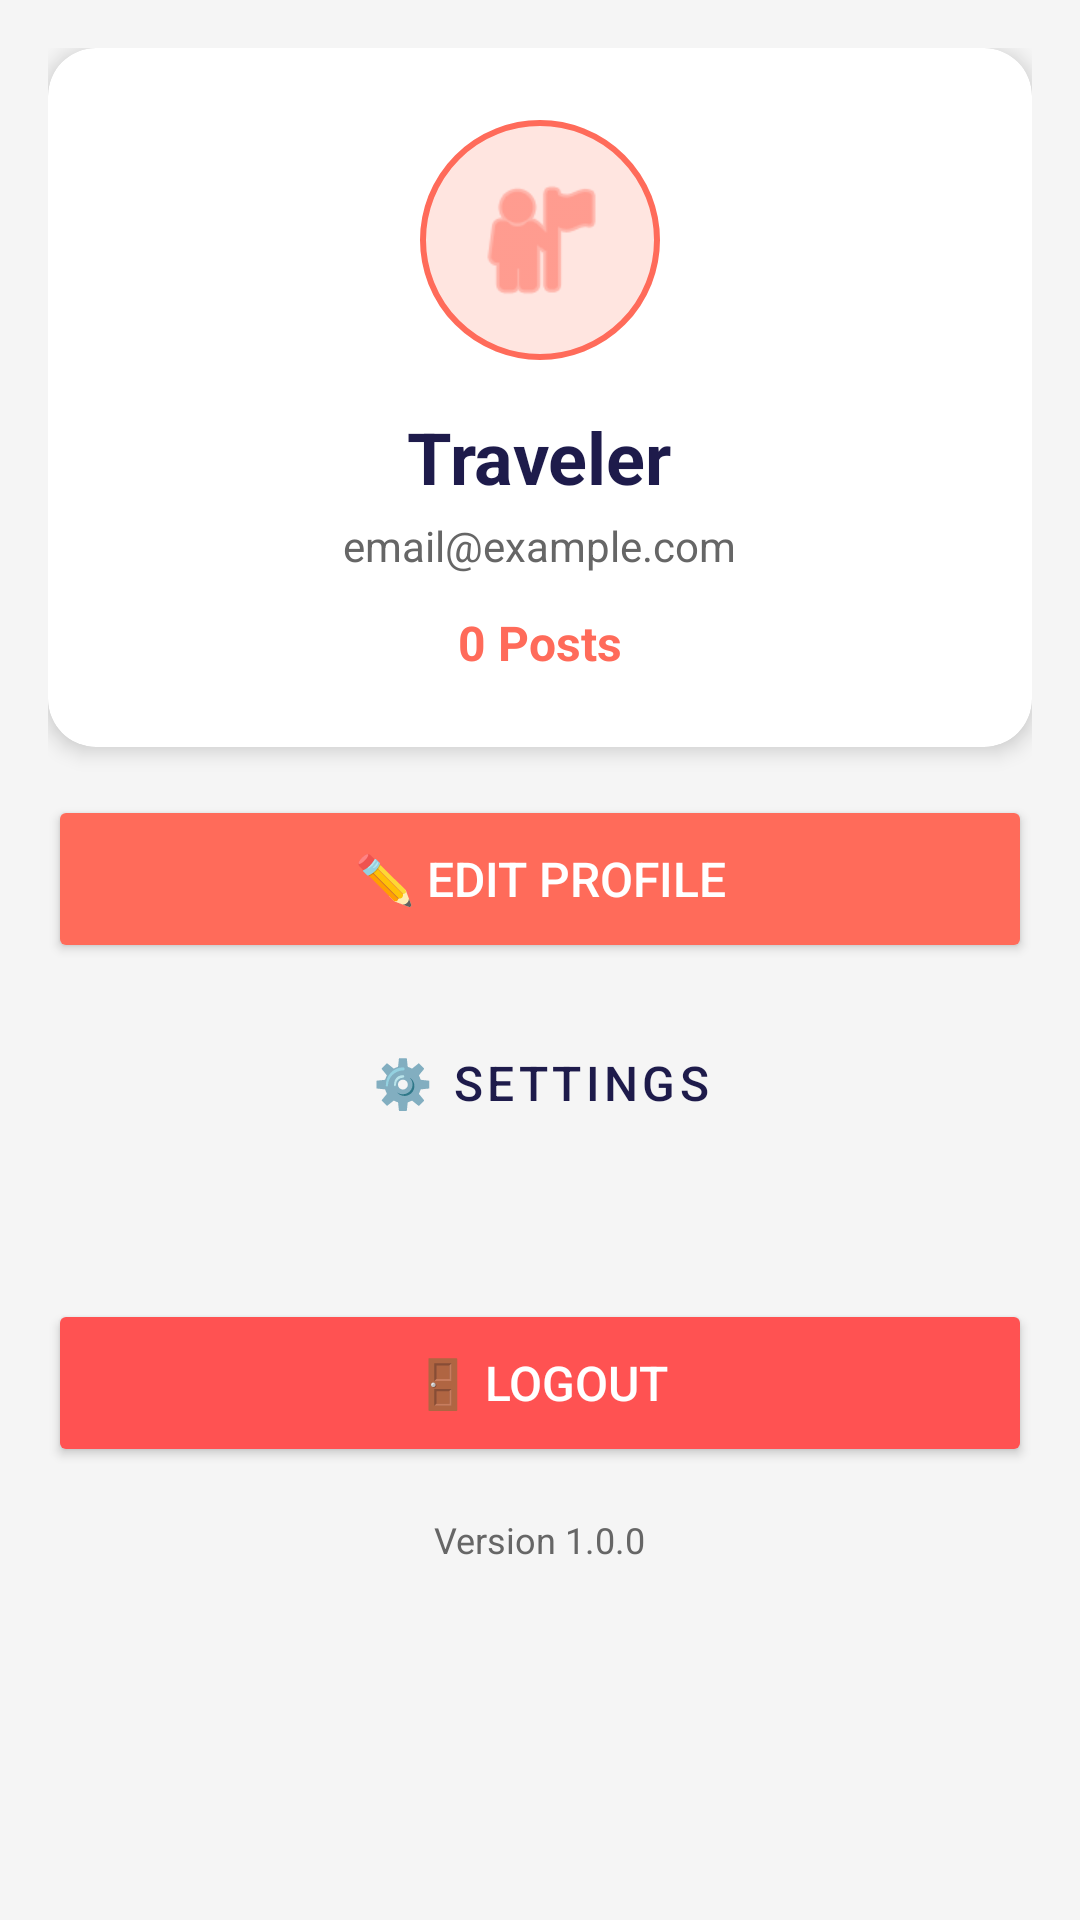

Icon bounding boxes for this 1080 x 1920 phone screenshot, format (x1,y1,x2,y2):
myplaces: (420,120,660,360)
